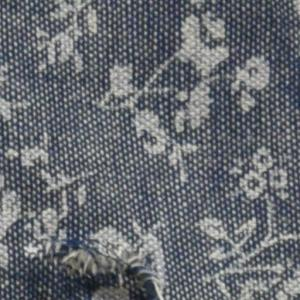Damage: (29, 239, 169, 300)
